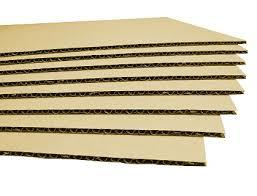Cardboard: (3, 12, 254, 175)
